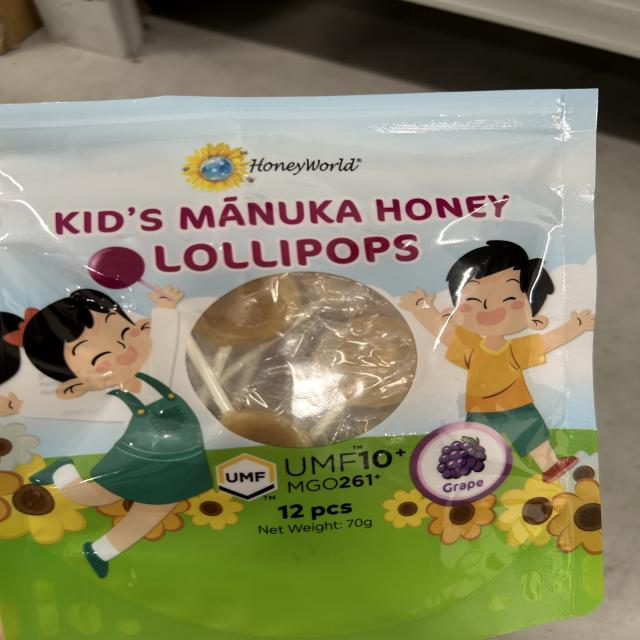object_name: (4, 100, 601, 640)
